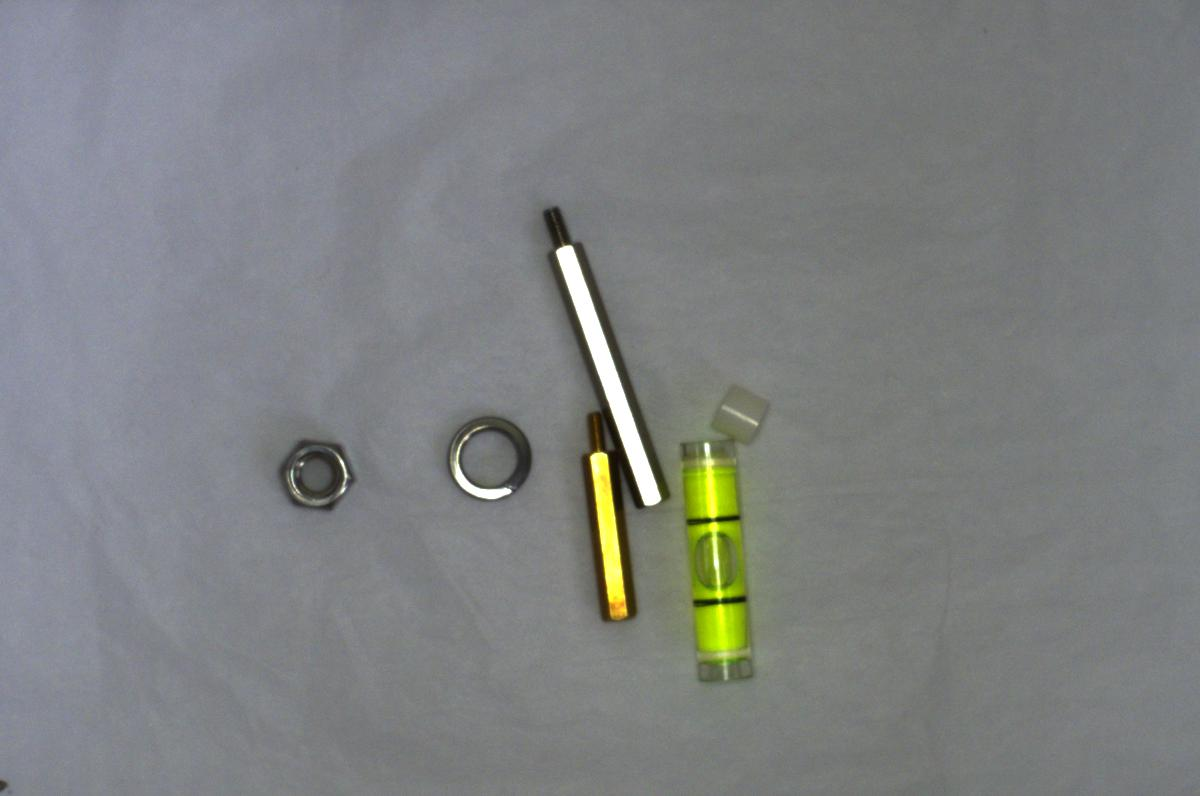Hexagon nut: (272, 430, 364, 518)
Hexagon pillar: (572, 403, 639, 626)
Hexagonal steel column: (535, 193, 667, 508)
Horizontal bubble: (678, 433, 765, 690)
Plastic cushion pillar: (706, 376, 782, 449)
Spring washer: (439, 409, 541, 513)
